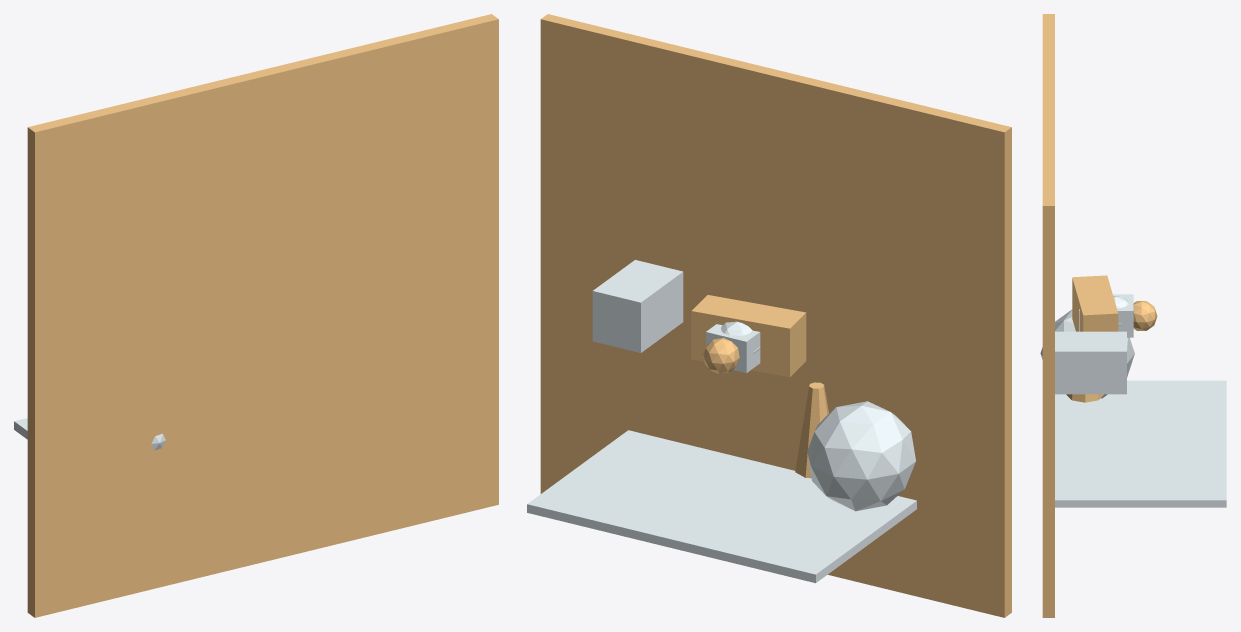
Rendered from ocean-regatta-kit.glb.
3 views of the same model, side by side, from view 1: azimuth 30°, elevation 25°; view 2: azimuth 150°, elevation 25°; view 3: azimuth 270°, elevation 25° (orthographic). The views are drawn at different scales.
Parts seen in each view (by area): view 1: ENVIRONMENT_GROUND; view 2: ENVIRONMENT_GROUND, ENVIRONMENT_GATE, PROFILE_ENVIRONMENT_DETAIL, PROFILE_OBSTACLE_DETAIL, PLAYER_BODY, PROFILE_ENVIRONMENT_SPIRE, PROFILE_PLAYER_DETAIL, PROFILE_PLAYER_HEAD; view 3: ENVIRONMENT_GATE, ENVIRONMENT_GROUND, PROFILE_OBSTACLE_DETAIL, PLAYER_BODY, PROFILE_PLAYER_HEAD, PROFILE_PLAYER_DETAIL, PROFILE_ENVIRONMENT_DETAIL.
Part boxes in pixels (left/top/right/bottom): ENVIRONMENT_GROUND: left=27, top=14, right=498, bottom=617; ENVIRONMENT_GROUND: left=540, top=14, right=1011, bottom=617; ENVIRONMENT_GATE: left=527, top=430, right=916, bottom=583; PROFILE_ENVIRONMENT_DETAIL: left=807, top=401, right=915, bottom=511; PROFILE_OBSTACLE_DETAIL: left=592, top=260, right=683, bottom=352; PLAYER_BODY: left=691, top=295, right=806, bottom=377; PROFILE_ENVIRONMENT_SPIRE: left=795, top=382, right=828, bottom=478; PROFILE_PLAYER_DETAIL: left=706, top=324, right=760, bottom=373; PROFILE_PLAYER_HEAD: left=703, top=337, right=739, bottom=374; ENVIRONMENT_GATE: left=1055, top=380, right=1226, bottom=507; ENVIRONMENT_GROUND: left=1042, top=14, right=1054, bottom=617; PROFILE_OBSTACLE_DETAIL: left=1055, top=331, right=1126, bottom=394; PLAYER_BODY: left=1072, top=275, right=1118, bottom=331; PROFILE_PLAYER_HEAD: left=1133, top=301, right=1157, bottom=330; PROFILE_PLAYER_DETAIL: left=1079, top=294, right=1133, bottom=337; PROFILE_ENVIRONMENT_DETAIL: left=1040, top=309, right=1134, bottom=398.
Size of what is drawn, in the model's own units: 9 by 9 by 3.69.
